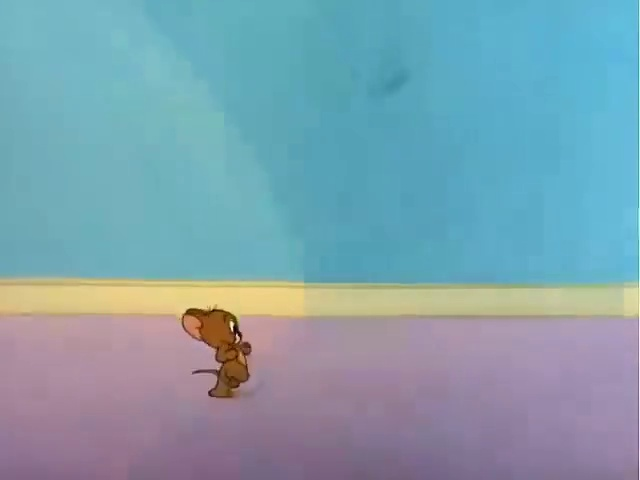jerry: (172, 291, 276, 403), (185, 299, 285, 407)
